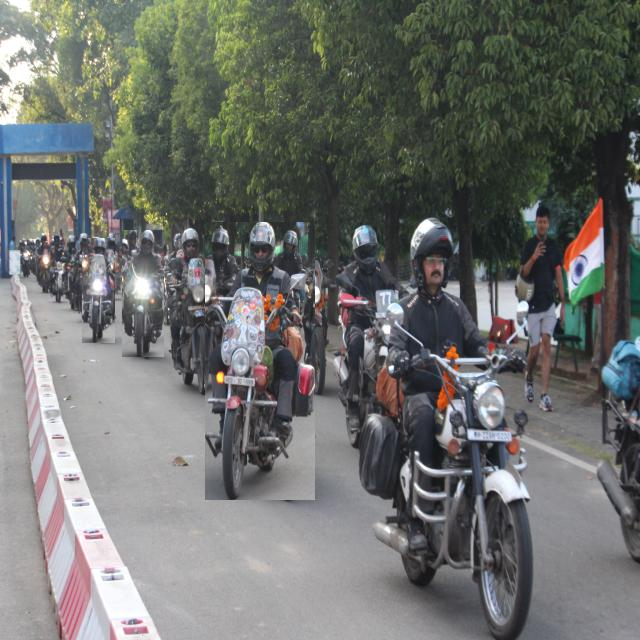motorcycle: (359, 219, 532, 639), (205, 223, 315, 500), (168, 229, 218, 394), (282, 229, 326, 394), (122, 230, 164, 357), (82, 238, 115, 343)
